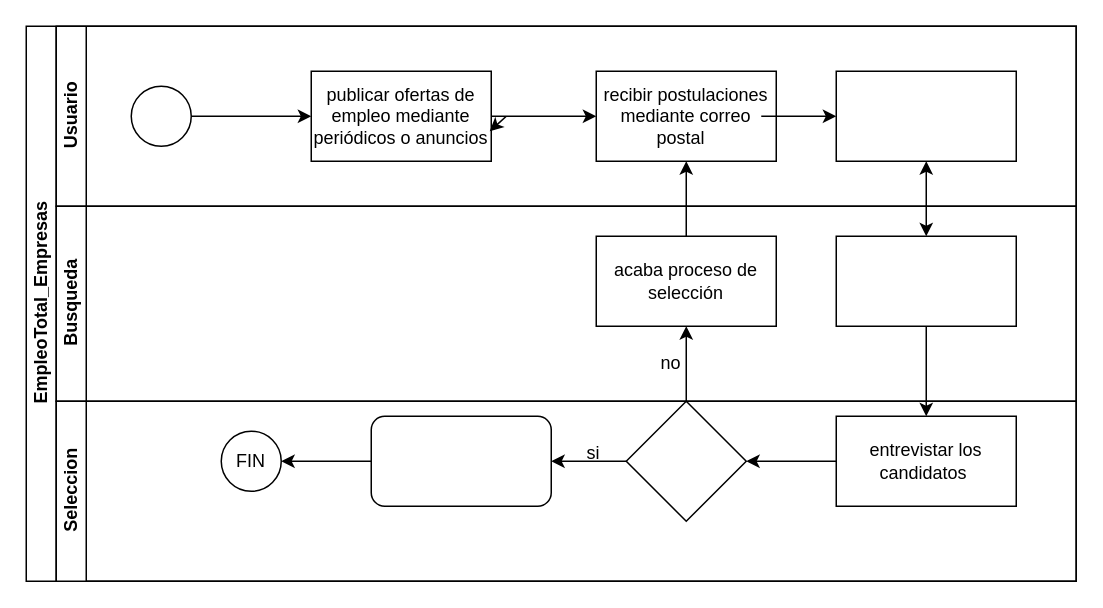
The diagram is 1103 pixels wide and 608 high, and some of its shapes have lost their labels. Each missing label, with the centre of its shape:
comunicarse por teléfono o correos postales: pixel 925 280
continuar con el procesode eleccion: pixel 460 460
Inicio: pixel 160 115
organizar hojas de vida por categorías subcategorías: pixel 925 115
